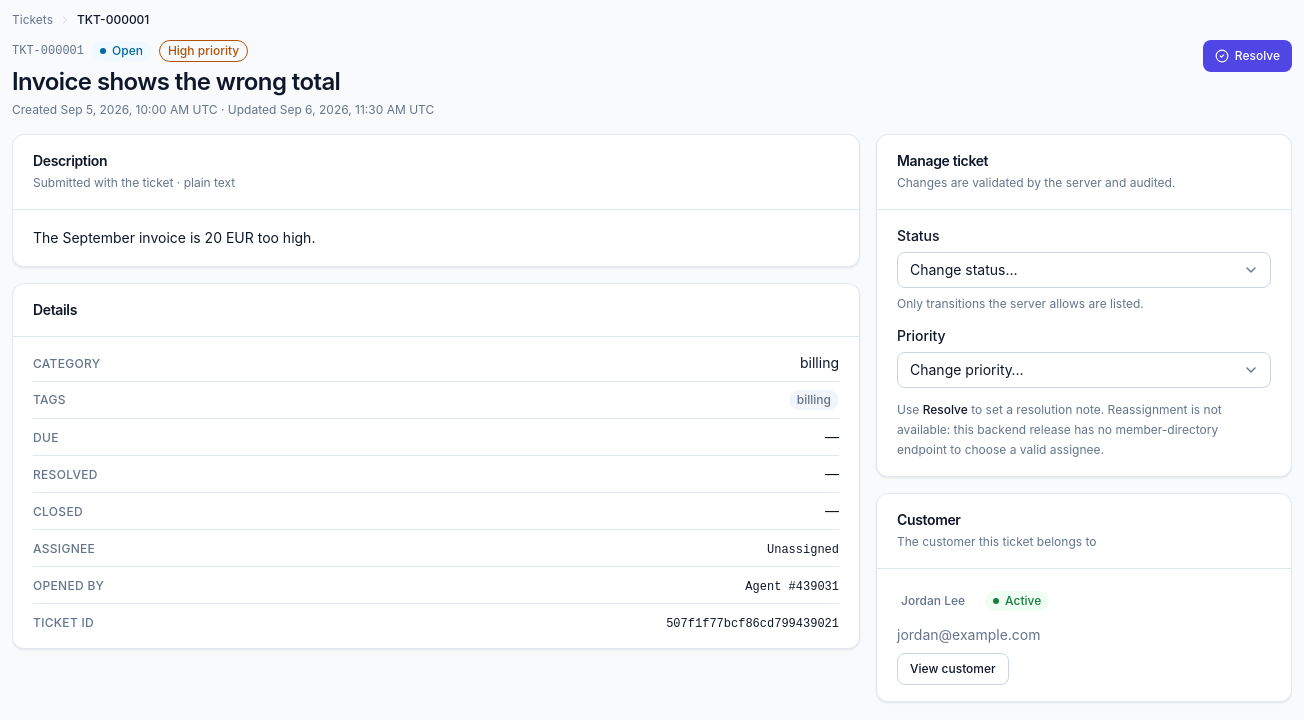
Test: TicketDetailPage › surfaces a rejected transition without leaking the server body
expect the heading "Invoice shows the wrong total" is shown: met, box [12,67,340,96]
Select "Closed" in the dropdown labelled "Status": [1084, 270] box [897,252,1271,288]
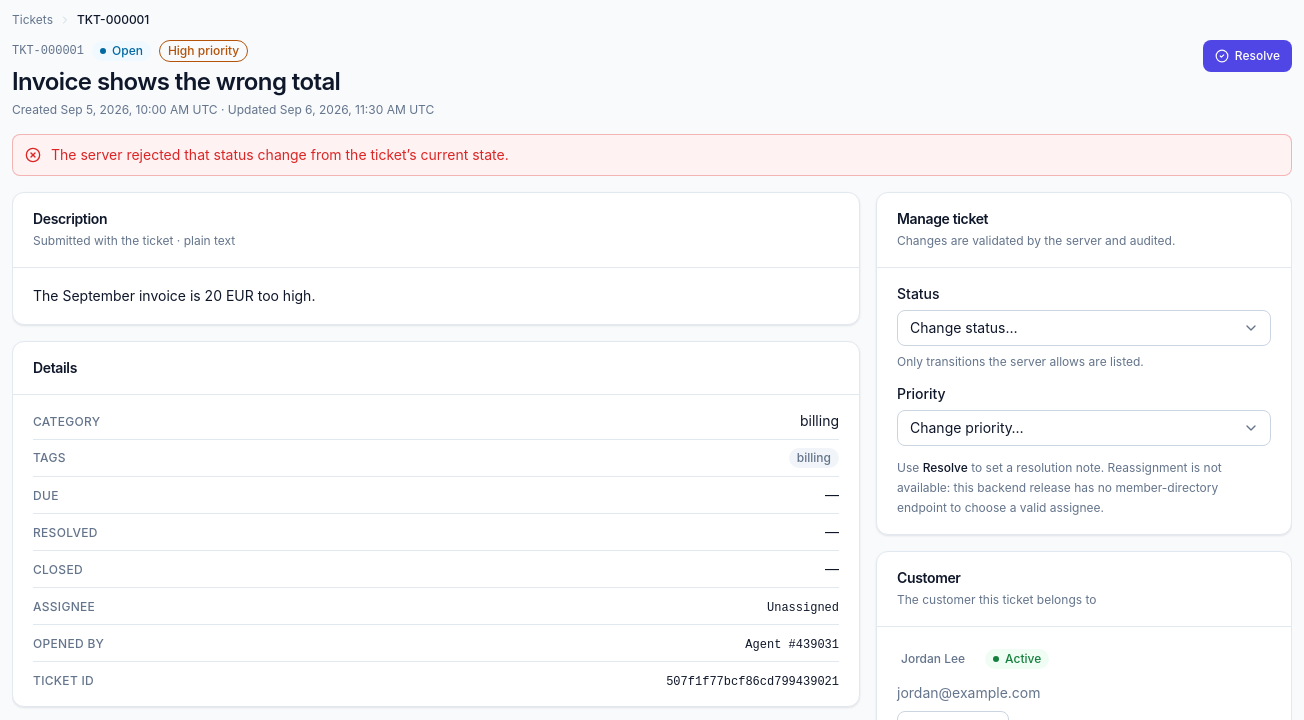
expect the message does not show "Cannot change ticket status": met, box [12,134,1292,176]
expect the message shows "rejected that status change": met, box [51,146,509,163]
